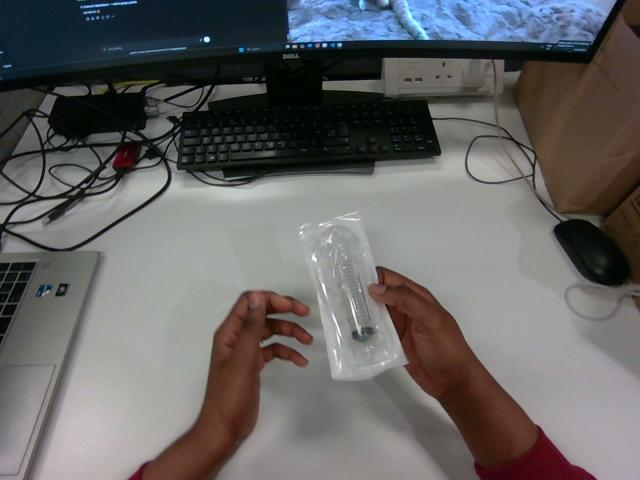syringe: (300, 213, 406, 379)
